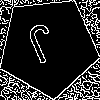J: (23, 21, 64, 74)
